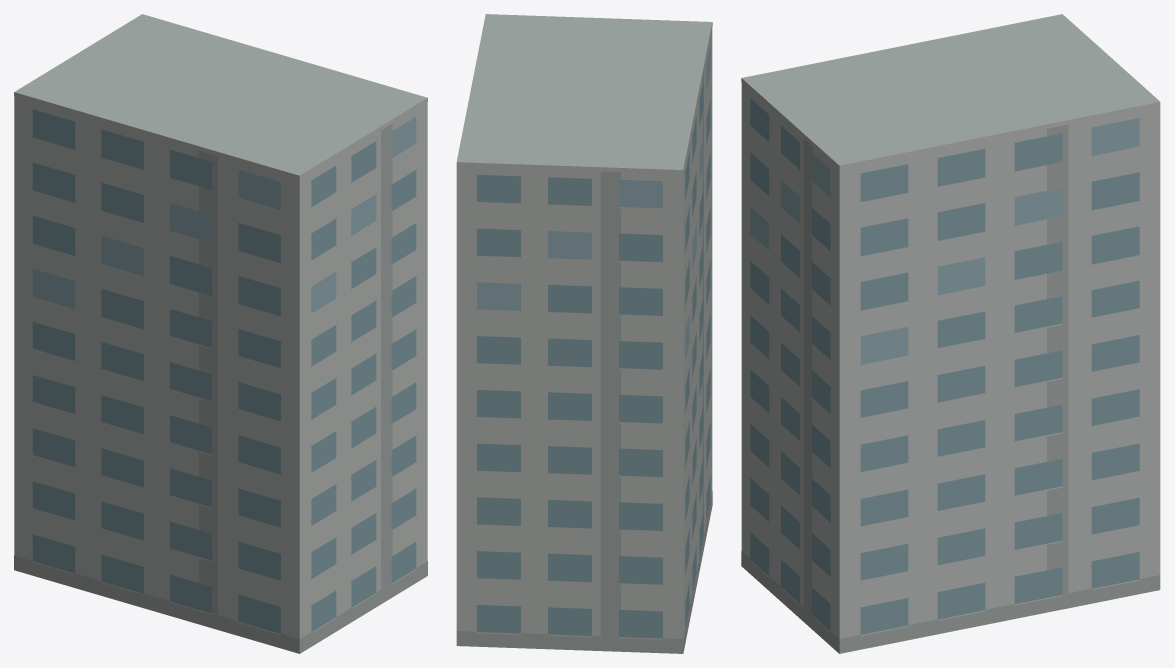
Rendered from residential-10ab4299-e35a-4d63-a4c5-ca9684be0817.glb.
3 views of the same model, side by side, from view 1: azimuth 30°, elevation 25°; view 2: azimuth 150°, elevation 25°; view 3: azimuth 270°, elevation 25° (orthographic). The views are drawn at different scales.
Visible parts, largest first — view 1: residential-10ab4299-e35a-4d63-a4c5-ca9684be0817.tmp; view 2: residential-10ab4299-e35a-4d63-a4c5-ca9684be0817.tmp; view 3: residential-10ab4299-e35a-4d63-a4c5-ca9684be0817.tmp.
Boxes of the visible parts, x1,y1,x2,y2 form: residential-10ab4299-e35a-4d63-a4c5-ca9684be0817.tmp: (14, 14, 427, 653); residential-10ab4299-e35a-4d63-a4c5-ca9684be0817.tmp: (456, 14, 712, 653); residential-10ab4299-e35a-4d63-a4c5-ca9684be0817.tmp: (741, 14, 1160, 653).
Bounding box in the file's own units: 18 × 27 × 21.01.
